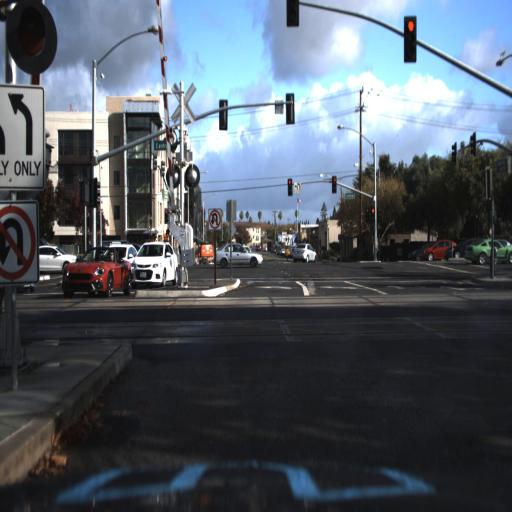car: (58, 249, 134, 300), (131, 236, 178, 289), (210, 242, 265, 271), (445, 235, 498, 264), (90, 243, 125, 285), (464, 239, 512, 267), (423, 236, 460, 265), (289, 237, 321, 266), (407, 240, 434, 262), (232, 240, 253, 266)
trafficLight: (11, 2, 54, 68), (285, 1, 300, 28)
trafficLight-Red: (403, 15, 418, 62), (330, 171, 339, 196), (370, 202, 377, 227), (286, 174, 293, 198), (332, 173, 337, 193)
